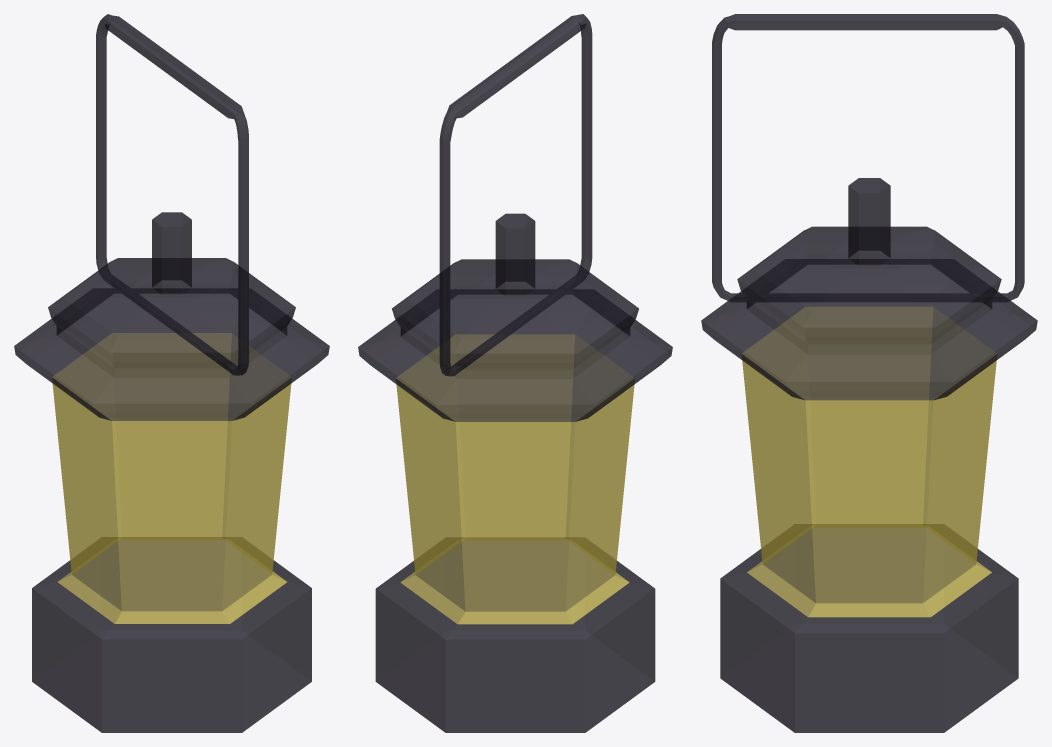
File: lentera.fbx
3 views of the same model, side by side, from view 1: azimuth 30°, elevation 25°; view 2: azimuth 150°, elevation 25°; view 3: azimuth 270°, elevation 25° (orthographic). The views are drawn at different scales.
Visible parts, largest first — view 1: Cylinder; view 2: Cylinder; view 3: Cylinder.
Part boxes in pixels (<box>): Cylinder: <box>14,14,329,732</box>; Cylinder: <box>358,14,672,732</box>; Cylinder: <box>701,14,1037,732</box>.
Bounding box in the file's own units: 228 × 572 × 263.
